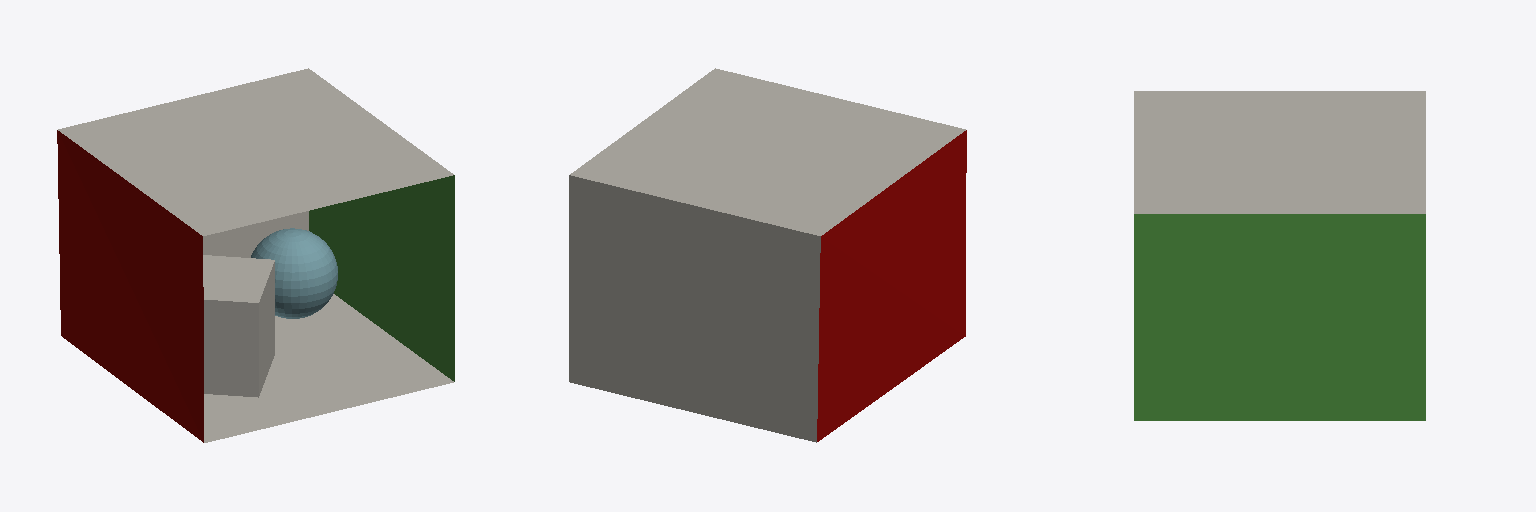
File: CornellBox-Glossy.obj
3 renders of one model, left to right at view 1: azimuth 30°, elevation 25°; view 2: azimuth 150°, elevation 25°; view 3: azimuth 270°, elevation 25°, orthographic.
Parts seen in each view (by area): view 1: ceiling, leftWall, rightWall, floor, shortBox, sphere, backWall; view 2: backWall, ceiling, leftWall; view 3: rightWall, ceiling.
Boxes of the visible parts, box(x1,y1,x2,y2) form: ceiling: box(58, 68, 453, 235); leftWall: box(57, 130, 203, 442); rightWall: box(309, 175, 454, 381); floor: box(204, 294, 453, 442); shortBox: box(203, 255, 274, 397); sphere: box(251, 228, 337, 318); backWall: box(203, 211, 308, 257); backWall: box(569, 175, 820, 442); ceiling: box(570, 68, 965, 235); leftWall: box(817, 130, 966, 441); rightWall: box(1134, 214, 1425, 420); ceiling: box(1134, 91, 1425, 213).
Bounding box in the file's own units: 2.02 × 1.59 × 2.03.